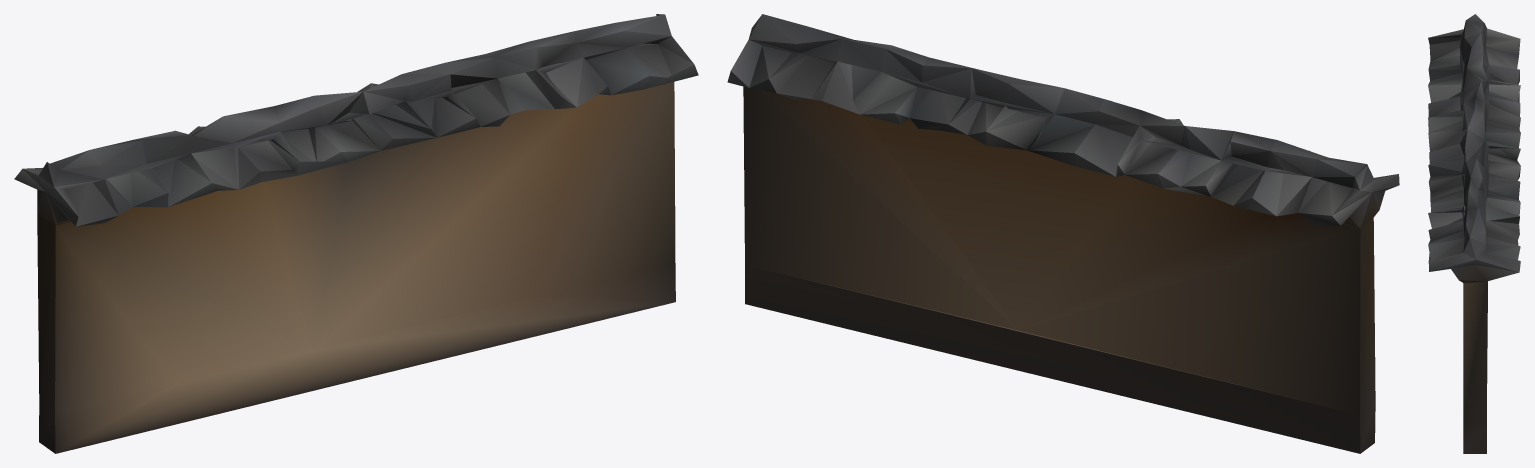
Rendered from wall-mobile.glb.
3 views of the same model, side by side, from view 1: azimuth 30°, elevation 25°; view 2: azimuth 150°, elevation 25°; view 3: azimuth 270°, elevation 25° (orthographic). The views are drawn at different scales.
Size of the model in its own units: 5.46 by 2.4 by 0.9399.
